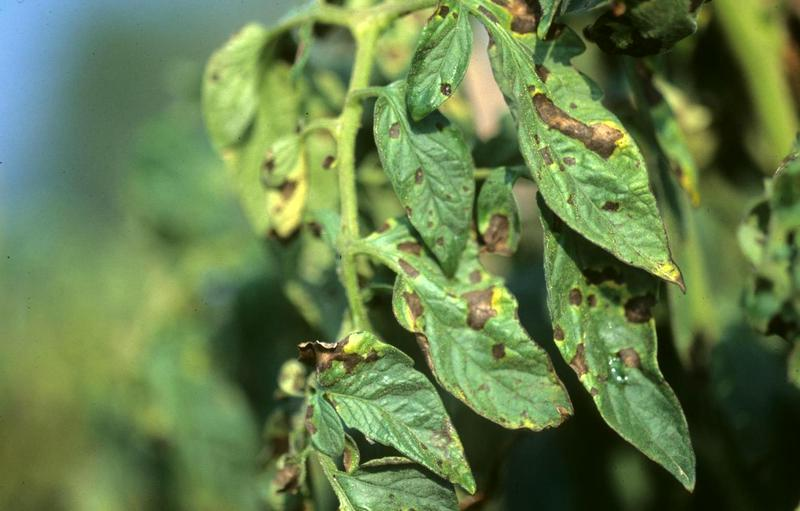Tomato Early blight leaf: (488, 26, 675, 282), (557, 217, 693, 491), (381, 233, 568, 412), (372, 81, 480, 282)
